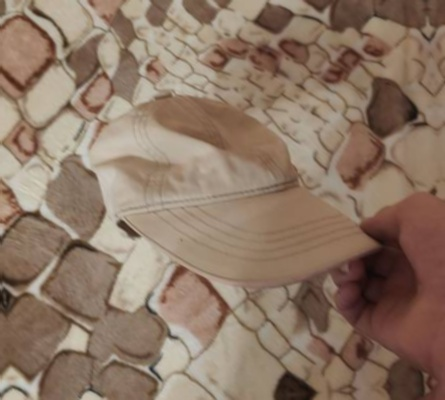Hat: (59, 27, 382, 339)
